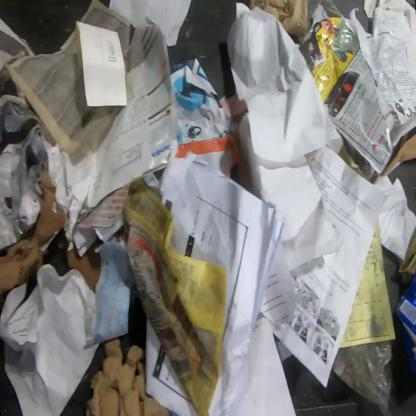cardboard: (0, 169, 67, 300), (83, 336, 172, 415), (54, 228, 106, 294), (174, 134, 240, 178), (393, 271, 415, 374), (383, 132, 415, 177), (397, 224, 416, 286)
metal: (294, 401, 360, 416)
soft_plastic: (330, 340, 398, 415)
